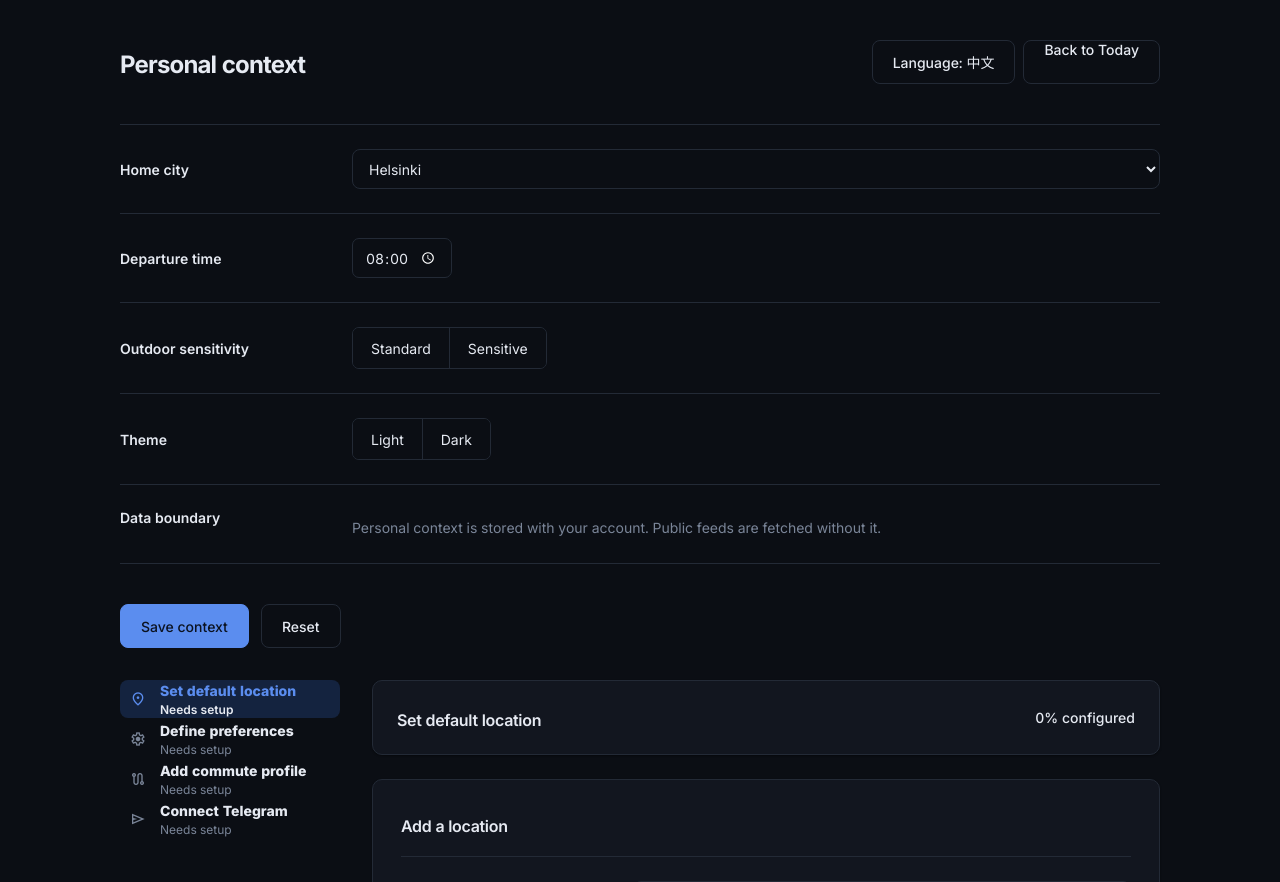
Scenario: PersonalSettingsPage › blocks invalid notification limits before sending preferences
This screenshot has width=1280, height=882.
Later steps or results of the test are not shown.
Click the button "Define preferences Needs setup".
click(230, 739)  # box [120,720,340,758]
(page scrolled)
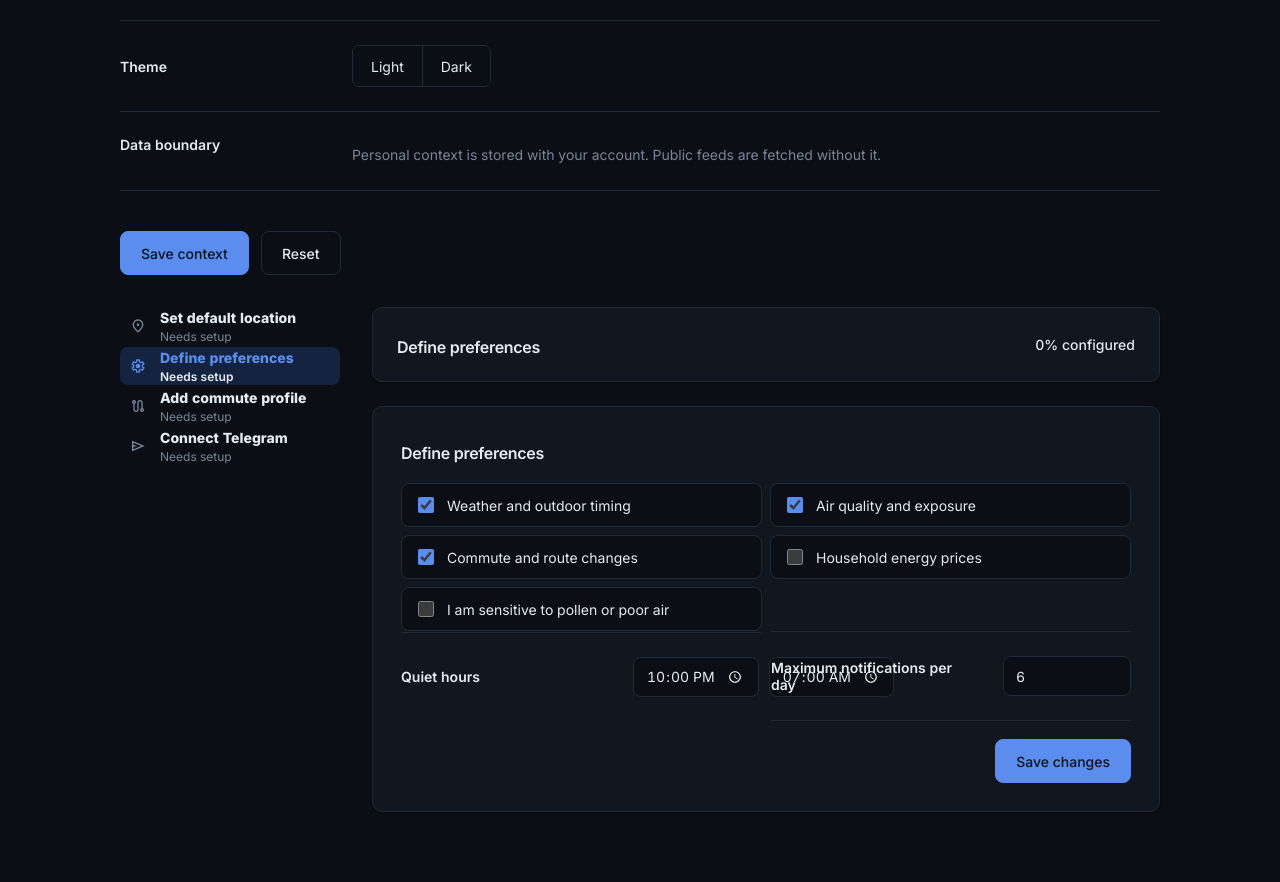
Clear the number field labelled "Maximum notifications per day" at (1067,676), box [1003,656,1131,696]
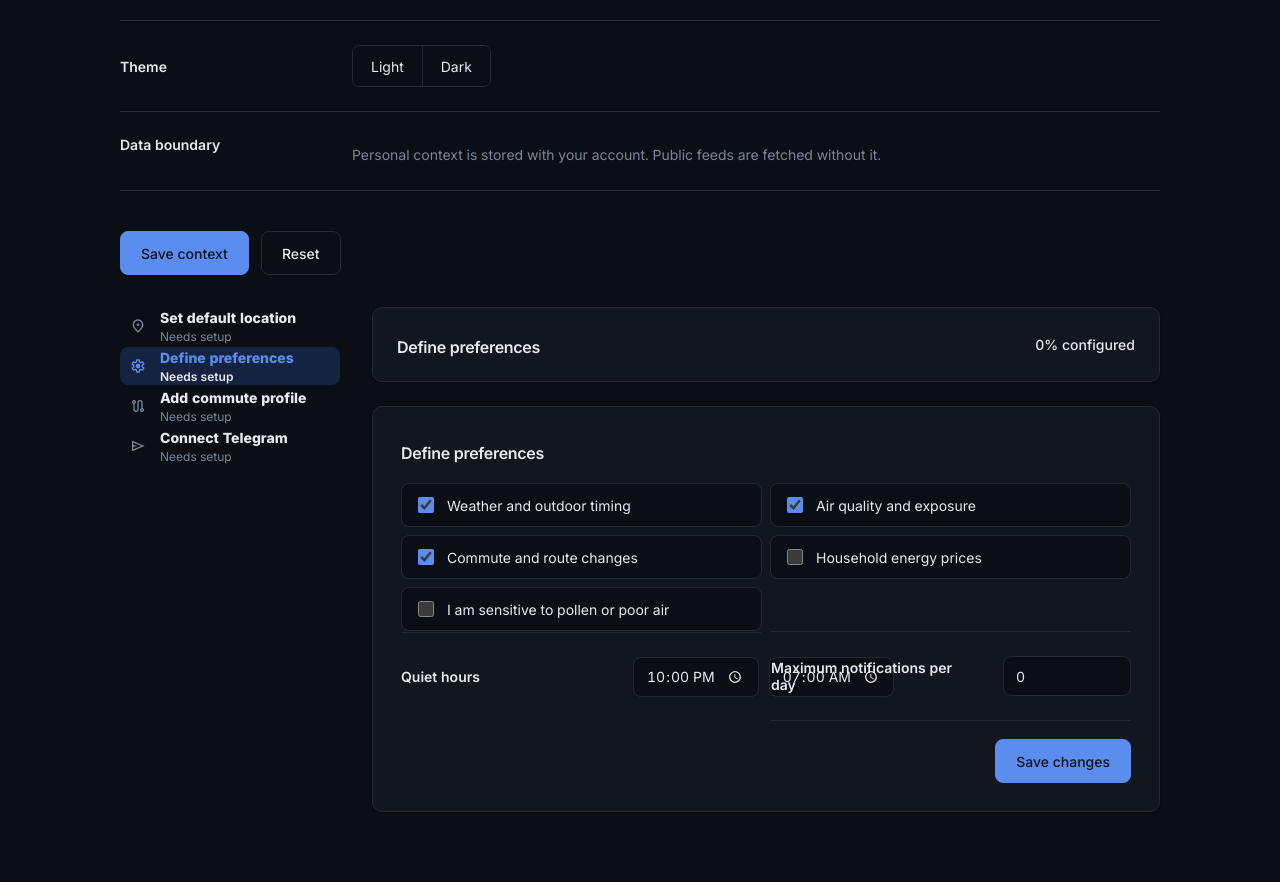
Click the button "Save changes".
click(1063, 761)  # box [995,739,1131,783]
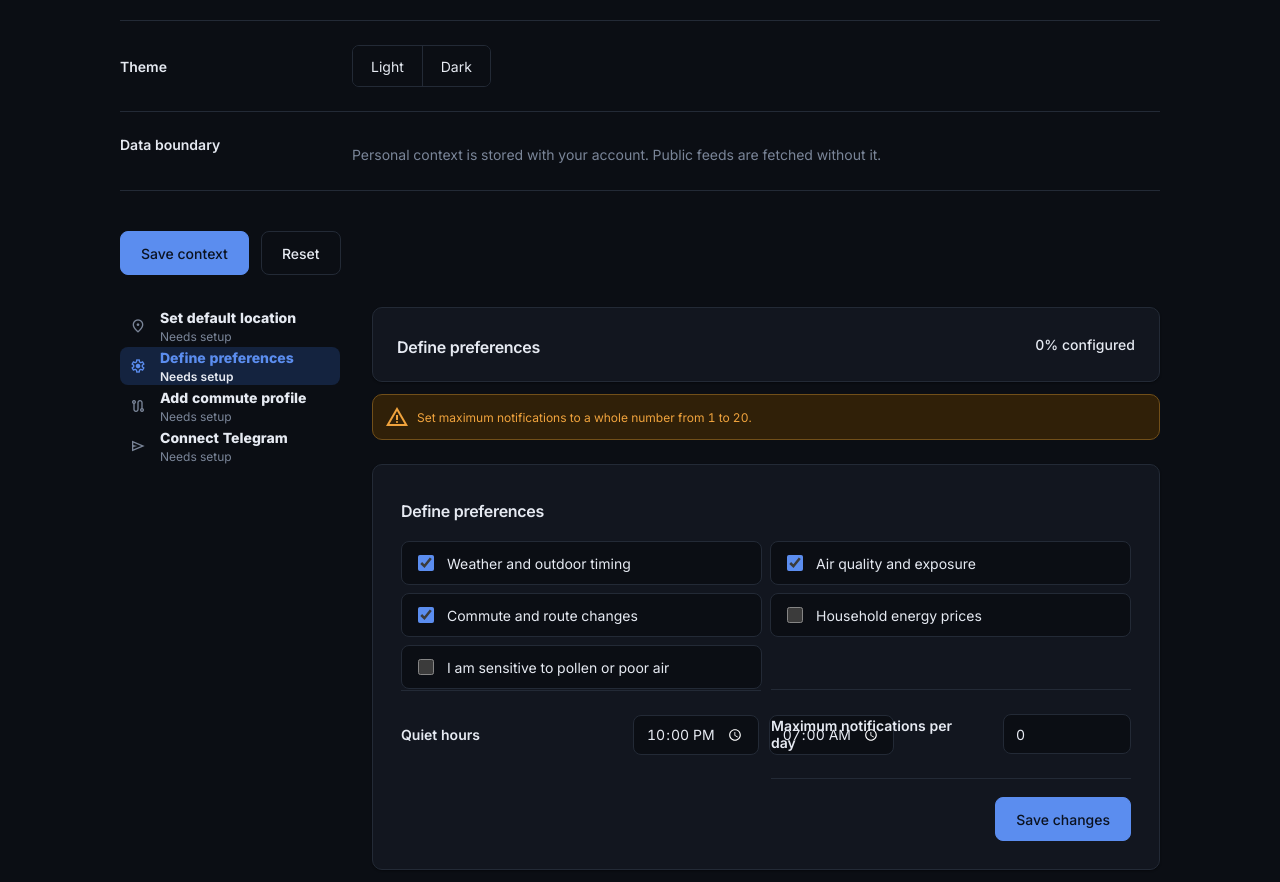
Expected: the message reads "Set maximum notifications to a whole number from 1 to 20.", [417,410,752,425]
